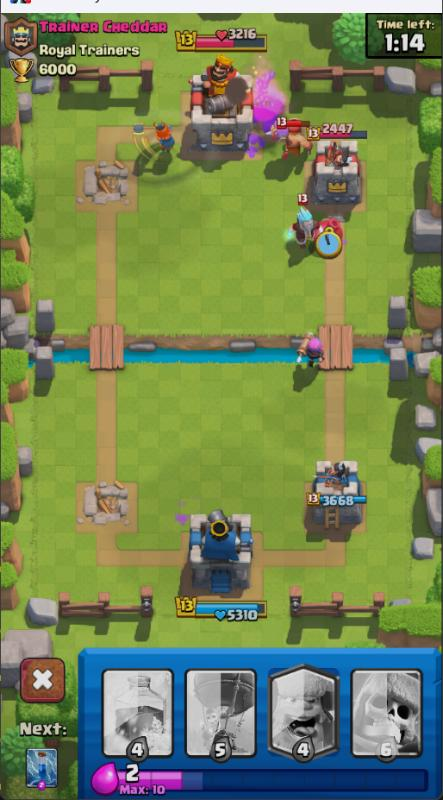valkyrie: (130, 119, 177, 155)
